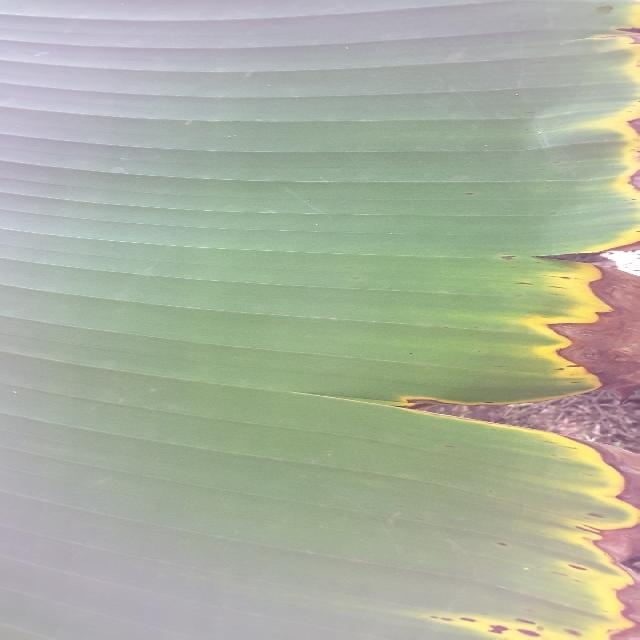Cordana: (290, 6, 640, 640)
